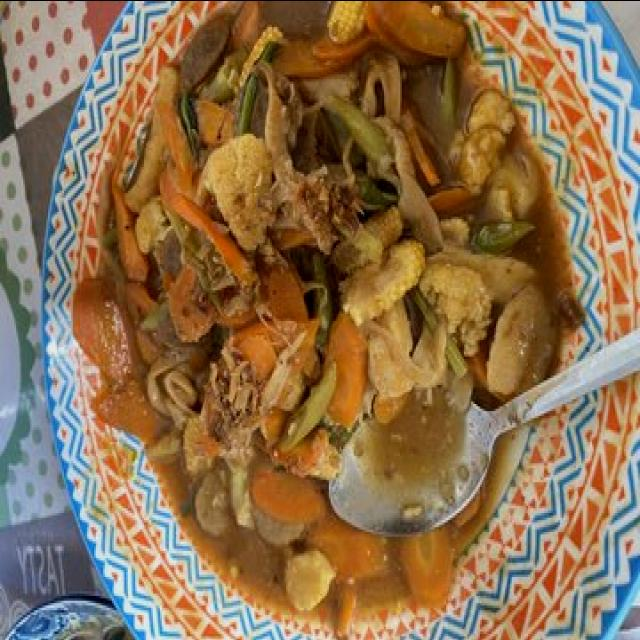capcay: (69, 0, 583, 640)
